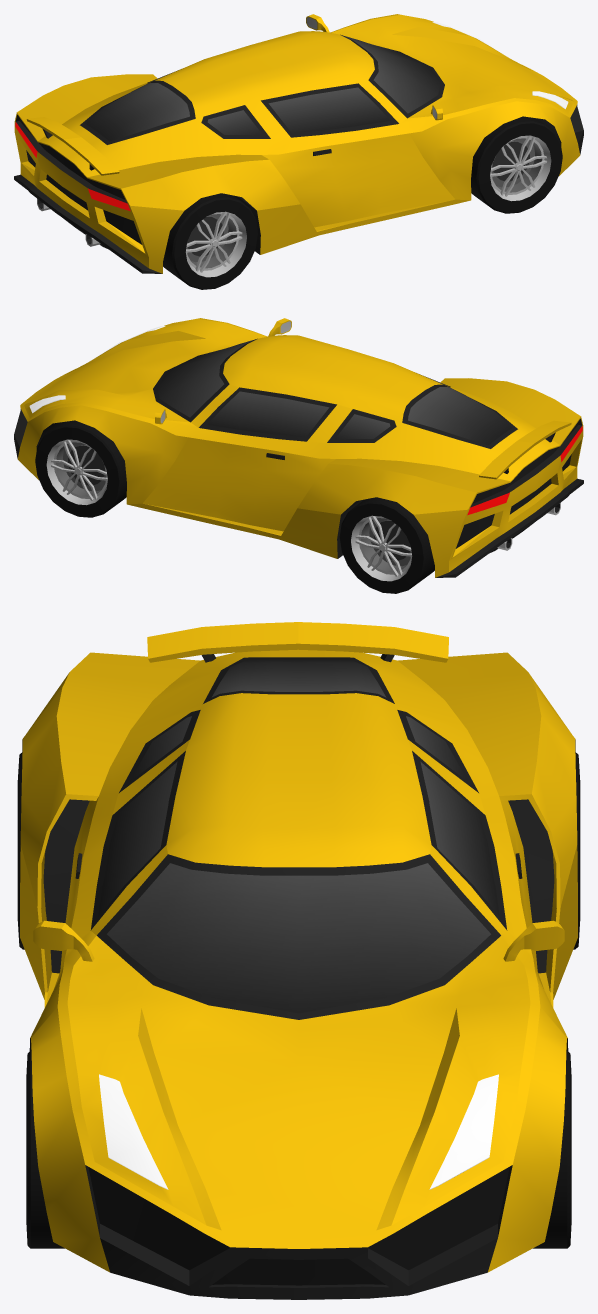
File: Car_217.glb
3 views of the same model, one above another, from view 1: azimuth 30°, elevation 25°; view 2: azimuth 150°, elevation 25°; view 3: azimuth 270°, elevation 25° (orthographic). The views are drawn at different scales.
Parts seen in each view (by area): view 1: Car_217, wheel_3_Car_217_Wheel_2R, wheel_1_Car_217_Wheel_1R; view 2: Car_217, wheel_2_Car_217_Wheel_2L, wheel_0_Car_217_Wheel_1L; view 3: Car_217, wheel_0_Car_217_Wheel_1L, wheel_1_Car_217_Wheel_1R.
Boxes of the visible parts, bbox=[...] form: Car_217: bbox=[14, 14, 583, 273]; wheel_3_Car_217_Wheel_2R: bbox=[163, 193, 258, 289]; wheel_1_Car_217_Wheel_1R: bbox=[471, 116, 562, 213]; Car_217: bbox=[14, 318, 583, 577]; wheel_2_Car_217_Wheel_2L: bbox=[339, 497, 434, 593]; wheel_0_Car_217_Wheel_1L: bbox=[35, 420, 126, 517]; Car_217: bbox=[20, 622, 577, 1299]; wheel_0_Car_217_Wheel_1L: bbox=[533, 1050, 571, 1248]; wheel_1_Car_217_Wheel_1R: bbox=[26, 1050, 64, 1248].
Size of the model in its own units: 4.19 by 1.17 by 2.02.
Materials: 2 (2 with a texture image).
